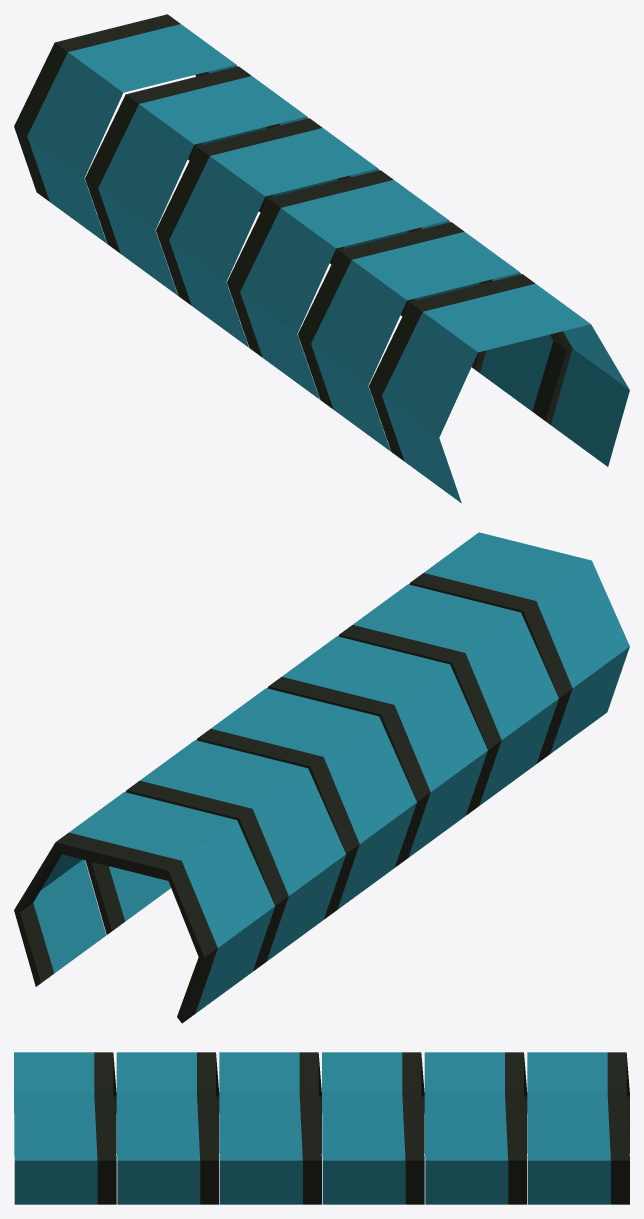
Rendered from CityPack3.glb.
3 renders of one model, top to bottom at view 1: azimuth 30°, elevation 25°; view 2: azimuth 150°, elevation 25°; view 3: azimuth 270°, elevation 25°, orthographic. The views are drawn at different scales.
Visible parts, largest first — view 1: Cube.019; view 2: Cube.019; view 3: Cube.019.
Part boxes in pixels (box(x1,y1,x2,y2)): Cube.019: box(14, 14, 629, 503); Cube.019: box(14, 532, 629, 1023); Cube.019: box(14, 1052, 629, 1204).
Bounding box in the file's own units: 106 × 78.92 × 411.
1 material, 1 textured.
